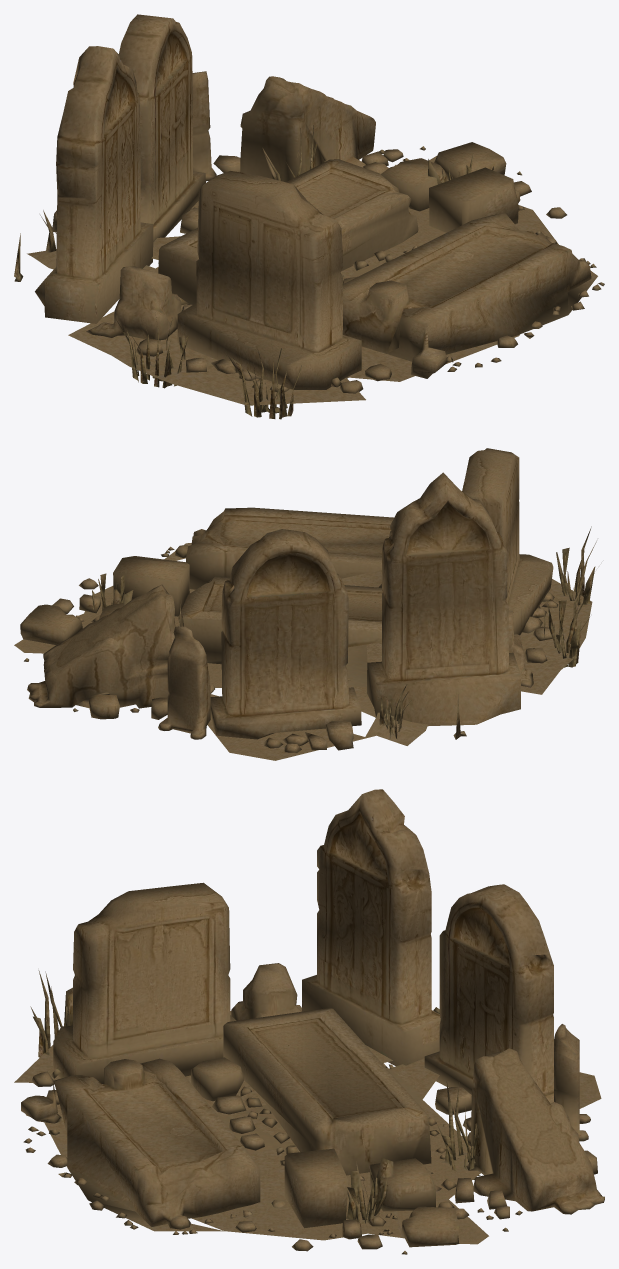
The model's file is graves.glb.
The picture shows the model from 3 angles, top to bottom: view 1: azimuth 30°, elevation 25°; view 2: azimuth 150°, elevation 25°; view 3: azimuth 270°, elevation 25°; orthographic projection. The views are drawn at different scales.
Parts seen in each view (by area): view 1: tripo_node_e075af3a-8afa-44b5-b49f-833fd65f7c94; view 2: tripo_node_e075af3a-8afa-44b5-b49f-833fd65f7c94; view 3: tripo_node_e075af3a-8afa-44b5-b49f-833fd65f7c94.
Boxes of the visible parts, left/top/right/bottom form: tripo_node_e075af3a-8afa-44b5-b49f-833fd65f7c94: left=14, top=14, right=604, bottom=419; tripo_node_e075af3a-8afa-44b5-b49f-833fd65f7c94: left=14, top=448, right=596, bottom=760; tripo_node_e075af3a-8afa-44b5-b49f-833fd65f7c94: left=14, top=789, right=604, bottom=1254.
Bounding box in the file's own units: 0.998 × 0.4863 × 0.998.
Materials: 1 (1 with a texture image).
